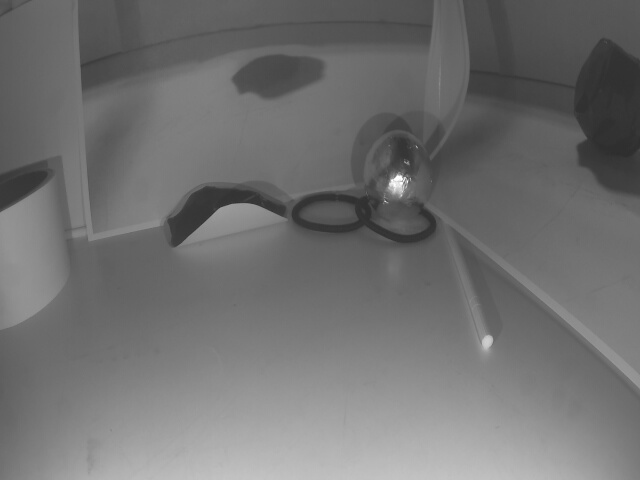Live: (362, 133, 430, 214)
